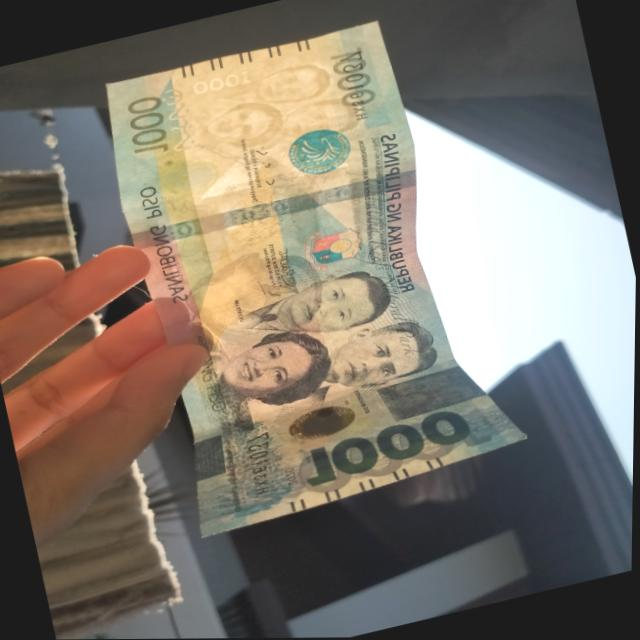concealed_value: (377, 365, 487, 422)
optically_variable_device: (271, 388, 381, 452)
security_thread: (130, 165, 421, 251)
see_through_mark: (157, 83, 201, 155)
serial_number: (328, 45, 387, 127)
value: (297, 406, 481, 489)
value_watermark: (188, 66, 255, 96)
watermark: (184, 55, 364, 167)
